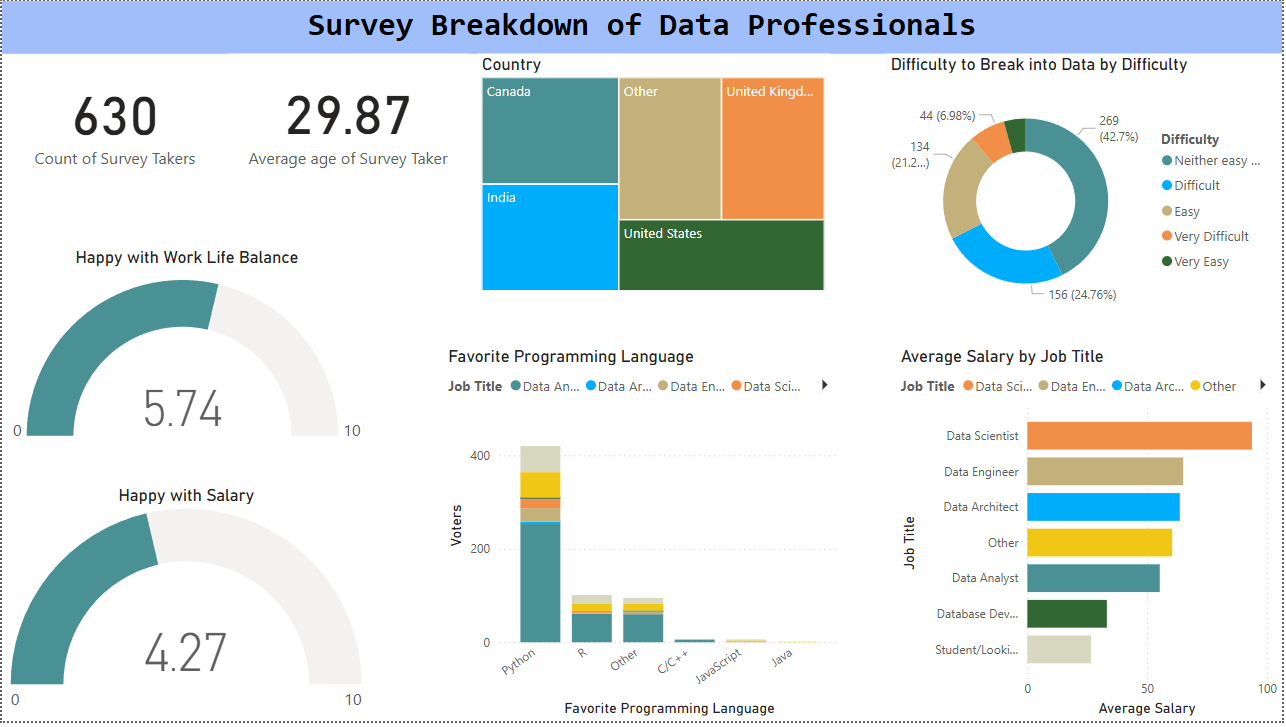

Layout of this report page (visuals, bound fields, positions):
{"tool":"powerbi","page":{"name":"Page 1","canvas":[1280,720],"ordinal":0},"visuals":[{"type":"textbox","box":[0,0,1280,53],"z":0},{"type":"card","fields":{"Values":["CountNonNull(Data Professional Survey.Unique ID)"]},"box":[0,53.8,226.2,130],"z":1000},{"type":"card","fields":{"Values":["Avg(Data Professional Survey.Q10 - Current Age)"]},"box":[226.2,52.5,240,131.2],"z":2000},{"type":"gauge","title":"Happy with Work Life Balance ","fields":{"Y":["Avg(Data Professional Survey.Q6 - How Happy are you in your Current Position with the following? (Work/Life Balance))"],"MinValue":["Min(Data Professional Survey.Q6 - How Happy are you in your Current Position with the following? (Work/Life Balance))"],"MaxValue":["Max(Data Professional Survey.Q6 - How Happy are you in your Current Position with the following? (Work/Life Balance))"]},"box":[1.2,246.2,367.5,207.5],"z":3000},{"type":"gauge","title":"Happy with Salary","fields":{"Y":["Avg(Data Professional Survey.Q6 - How Happy are you in your Current Position with the following? (Salary))"],"MinValue":["Min(Data Professional Survey.Q6 - How Happy are you in your Current Position with the following? (Salary))"],"MaxValue":["Max(Data Professional Survey.Q6 - How Happy are you in your Current Position with the following? (Salary))"]},"box":[0,483.8,368.8,236.2],"z":4000},{"type":"treemap","title":"Country","fields":{"Group":["Data Professional Survey.Q11 - Which Country do you live in?.1"],"Values":["Count(Data Professional Survey.Q11 - Which Country do you live in?.1)"]},"box":[475,52.5,352.5,242.5],"z":5000},{"type":"columnChart","title":"Favorite Programming Language","fields":{"Category":["Data Professional Survey.Q5 - Favorite Programming Language.1.1"],"Y":["CountNonNull(Data Professional Survey.Unique ID)"],"Series":["Data Professional Survey.Q1 - Which Title Best Fits your Current Role?.1"]},"box":[441.2,345,401.2,375],"z":6000},{"type":"barChart","title":"Average Salary  by Job Title ","fields":{"Y":["Avg(Data Professional Survey.Average Salary )"],"Category":["Data Professional Survey.Q1 - Which Title Best Fits your Current Role?.1"],"Series":["Data Professional Survey.Q1 - Which Title Best Fits your Current Role?.1"]},"box":[893.8,345,386.2,375],"z":7000},{"type":"donutChart","fields":{"Category":["Data Professional Survey.Q7 - How difficult was it for you to break into Data?"],"Y":["CountNonNull(Data Professional Survey.Q7 - How difficult was it for you to break into Data?)"]},"box":[883.8,52.5,396.2,276.2],"z":8000}]}

Visuals, with their boxes in screenshot pixels (x1, y1, x2, y2), scaled from the page's 1280x720 canvas onto the 1286x727 screenshot:
textbox: select_region(0, 0, 1285, 54)
card - CountNonNull(Data Professional Survey.Unique ID): select_region(0, 54, 227, 186)
card - Avg(Data Professional Survey.Q10 - Current Age): select_region(227, 53, 468, 185)
"Happy with Work Life Balance " gauge: select_region(1, 249, 370, 458)
"Happy with Salary" gauge: select_region(0, 489, 371, 726)
"Country" treemap: select_region(477, 53, 831, 298)
"Favorite Programming Language" columnChart: select_region(443, 348, 846, 726)
"Average Salary  by Job Title " barChart: select_region(898, 348, 1285, 726)
donutChart - Data Professional Survey.Q7 - How difficult was it for you to break into Data? x CountNonNull(Data Professional Survey.Q7 - How difficult was it for you to break into Data?): select_region(888, 53, 1285, 332)
